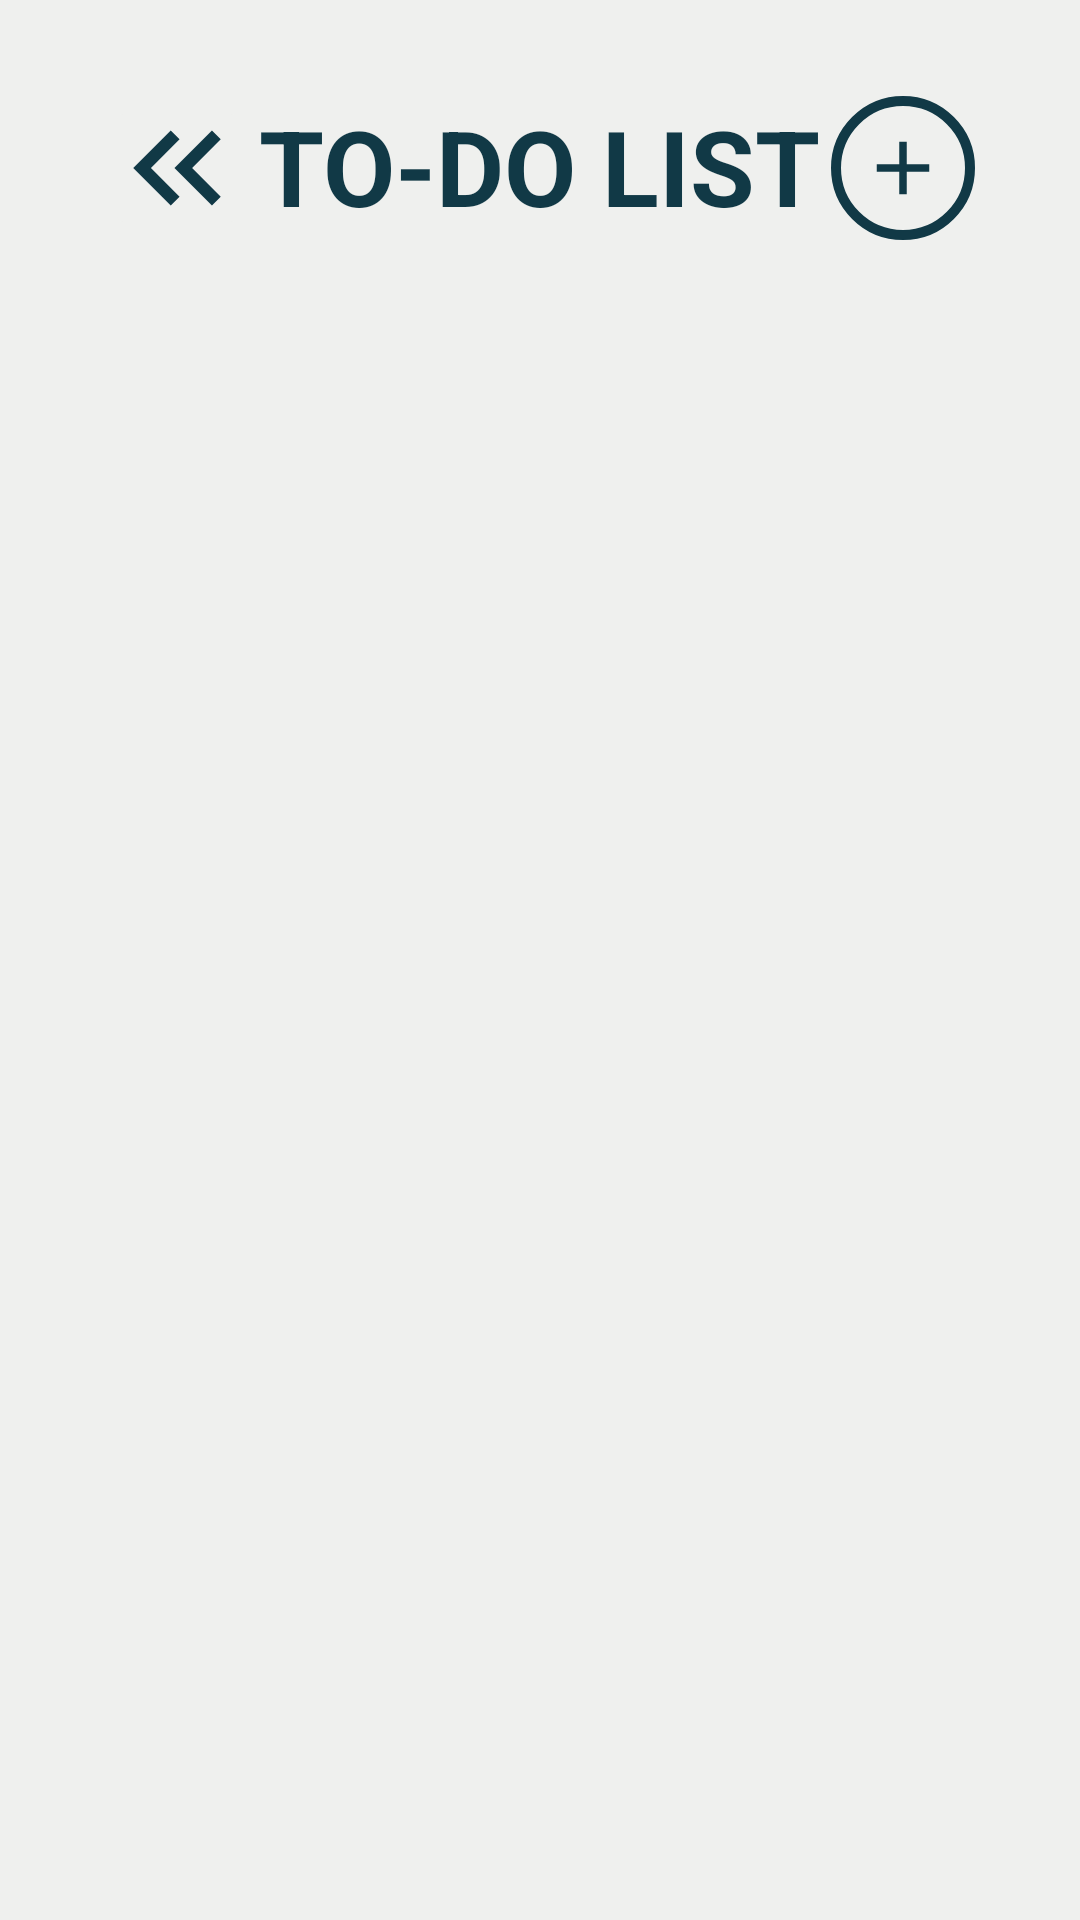

Where icons sit on this 1080w x 1920h app screen, as (x1, y1, x2, y2):
Add Task: (831, 96, 975, 240)
Back to Homepage: (133, 130, 221, 206)
